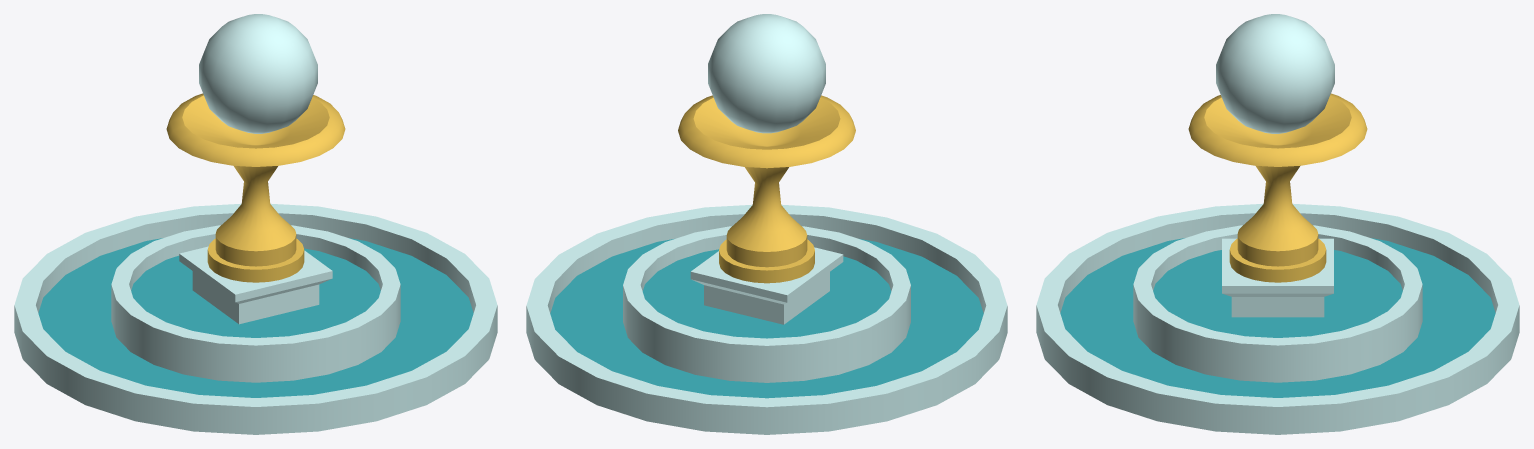
File: penquan.FBX
3 views of the same model, side by side, from view 1: azimuth 30°, elevation 25°; view 2: azimuth 150°, elevation 25°; view 3: azimuth 270°, elevation 25° (orthographic).
Parts seen in each view (by area): view 1: penquan; view 2: penquan; view 3: penquan.
Boxes of the visible parts, bbox=[...] form: penquan: bbox=[14, 14, 497, 434]; penquan: bbox=[526, 14, 1007, 434]; penquan: bbox=[1036, 14, 1519, 434].
Bounding box in the file's own units: 197 × 142 × 197.
